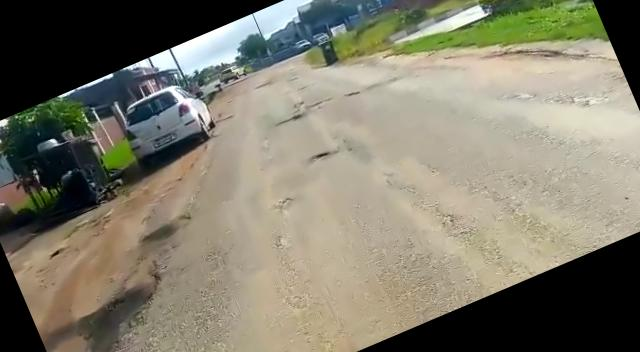pothole: (310, 146, 339, 166)
